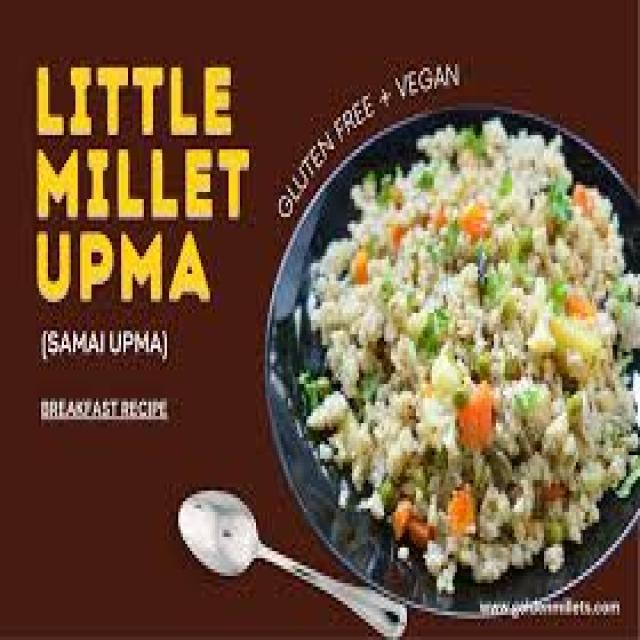UPMA: (299, 121, 638, 587)
